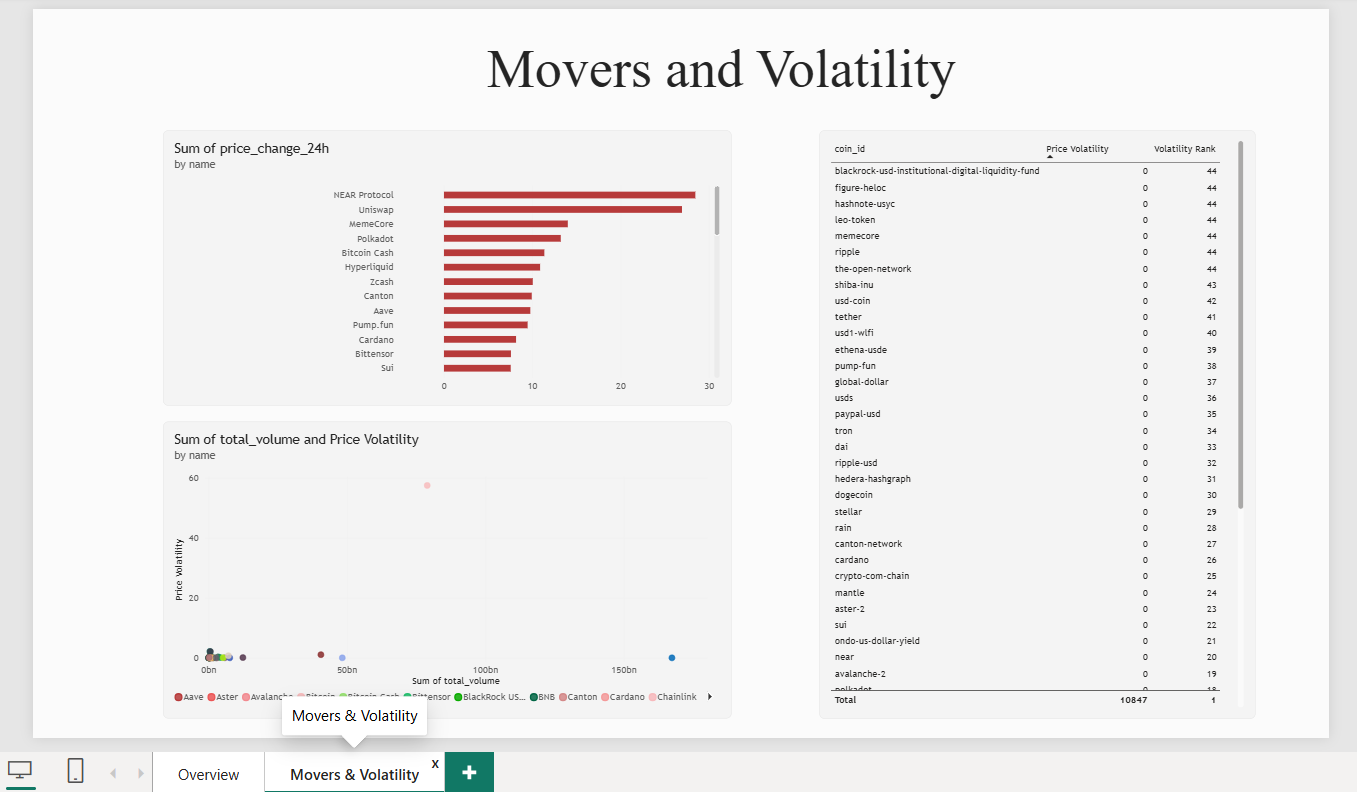

What the dashboard file says about the page in this screenshot:
{"tool":"powerbi","page":{"name":"Movers & Volatility","canvas":[1920,1080],"ordinal":1},"visuals":[{"type":"clusteredBarChart","fields":{"Category":["top_movers.name"],"Y":["Sum(top_movers.price_change_24h)"]},"box":[192,180,842,408],"z":0},{"type":"tableEx","fields":{"Values":["price_snapshots.coin_id","price_snapshots.Price Volatility","price_snapshots.Volatility Rank"]},"box":[1164,180,646,872],"z":1000},{"type":"scatterChart","fields":{"X":["Sum(price_snapshots.total_volume)"],"Y":["price_snapshots.Price Volatility"],"Series":["coins.name"]},"box":[192,612,842,440],"z":2000},{"type":"textbox","box":[672,42,894,112],"z":3000}]}

Visuals, with their boxes on the page's 1920x1080 design canvas (x1, y1, x2, y2). These are canvas units, not pixel positions in the 1357x792 screenshot, which may show the page scaled, cropped or inside an application window:
clusteredBarChart - top_movers.name x Sum(top_movers.price_change_24h): detection(192, 180, 1034, 588)
tableEx - price_snapshots.coin_id x price_snapshots.Price Volatility: detection(1164, 180, 1810, 1052)
scatterChart - Sum(price_snapshots.total_volume) x price_snapshots.Price Volatility: detection(192, 612, 1034, 1052)
textbox: detection(672, 42, 1566, 154)
